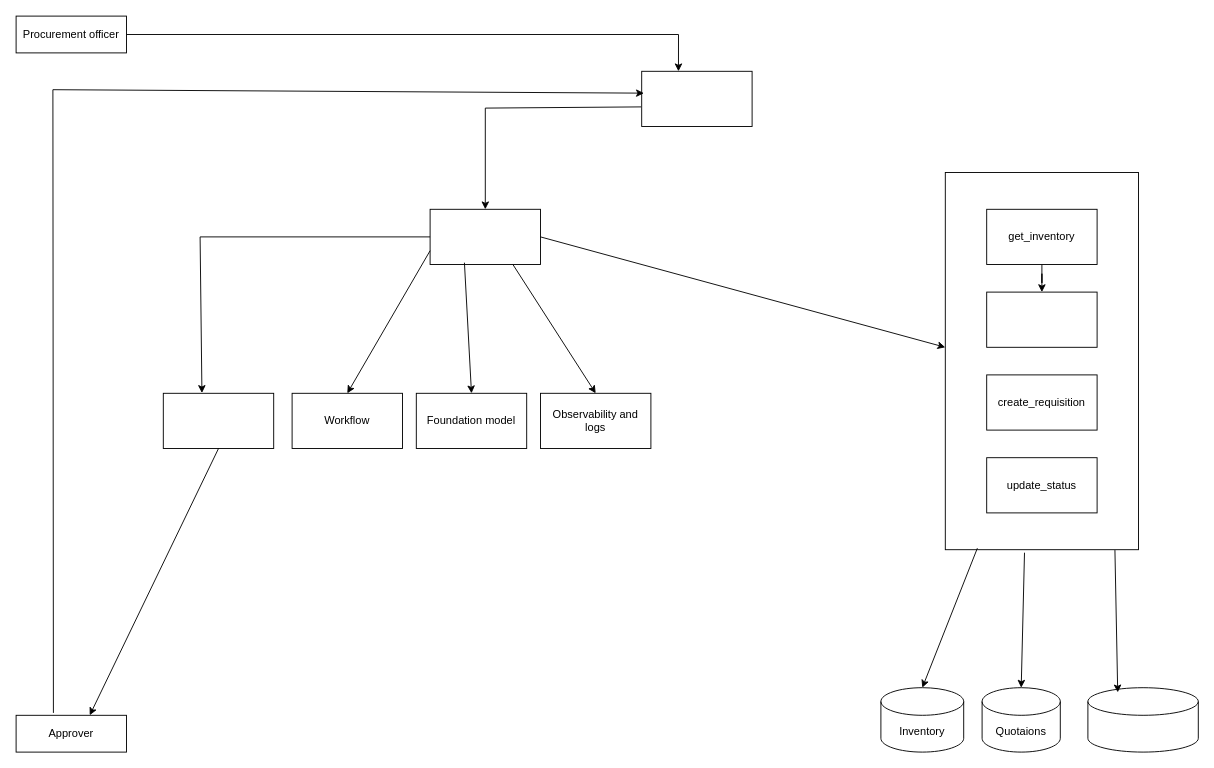
Some shapes in this 1214 by 768 pixel diagram are drawn without their labels. The shapes that lost their labels are listed below. From the top down, each one's centre as x and y in pixels, then its label:
At [696,98]: "User interface".
At [484,236]: "Bounded Agent".
At [1041,319]: "get_quotations".
At [218,420]: "Human approval".
At [1142,719]: "Memory and Preferences".
